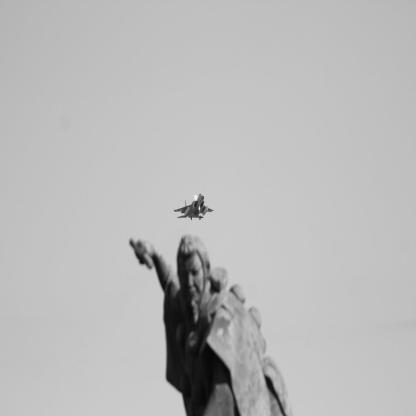F15: (174, 194, 215, 221)
